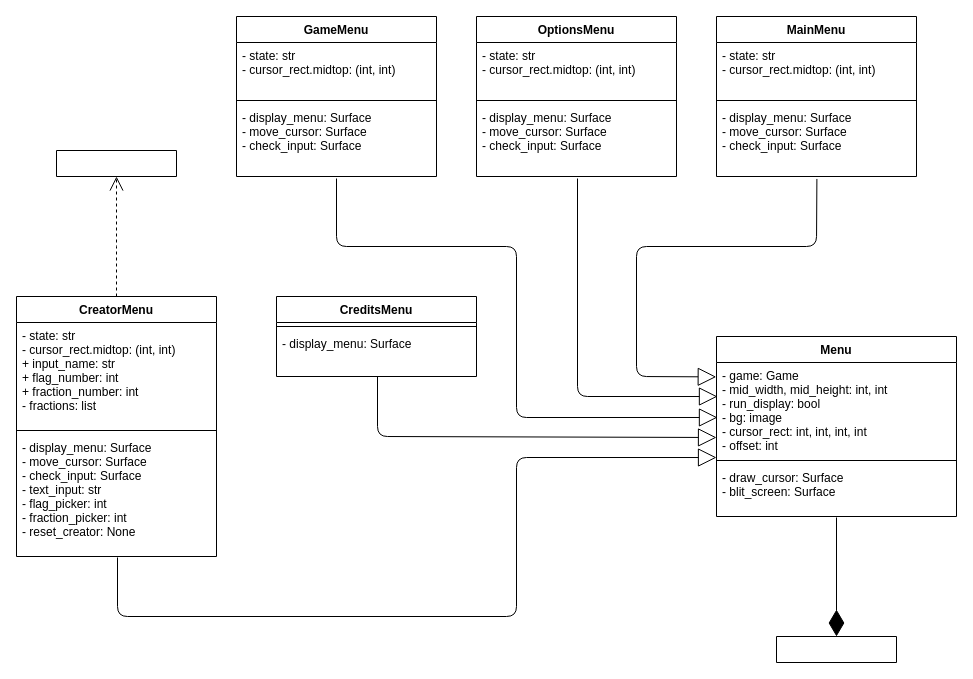
Image size: 973x679. Some labels were removed from this diagram. The centre of each missing label's shape, as x and y in pixels:
Game: the point at 836,649
TextInput: the point at 116,163
